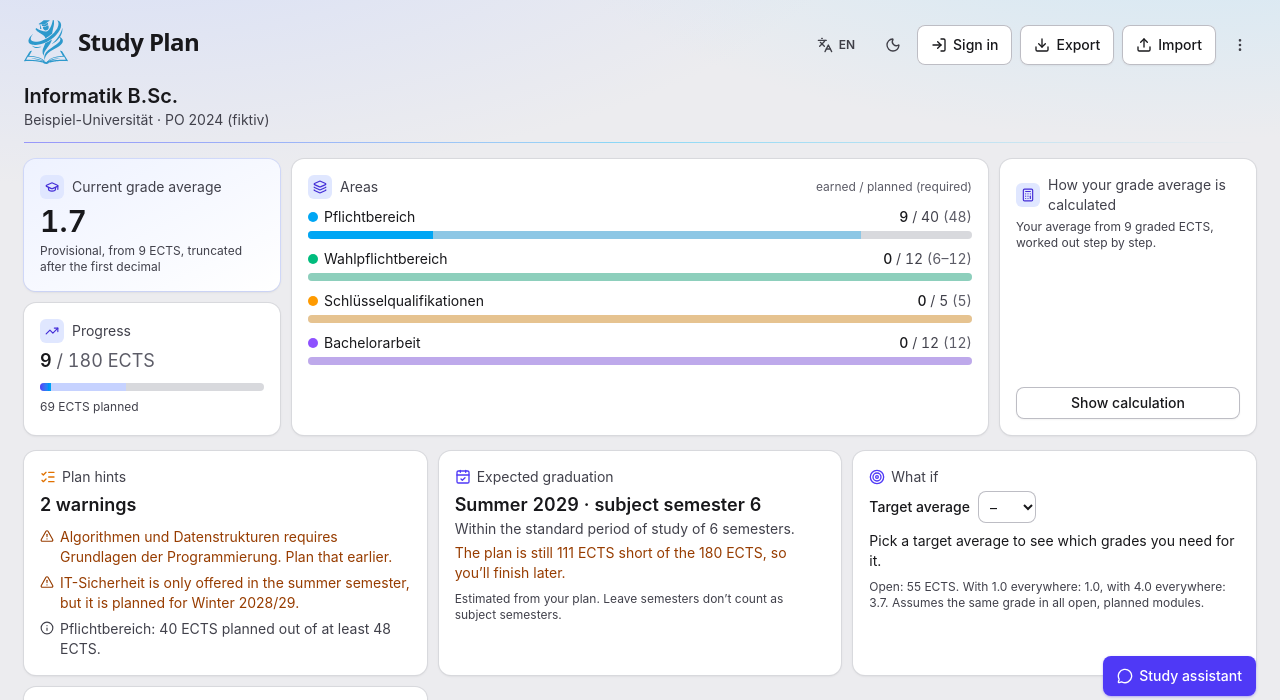
Test: resetting the plan to its default › is labelled in English
Click the button named "More actions". click: (1240, 45)
box: [1224,29,1256,61]
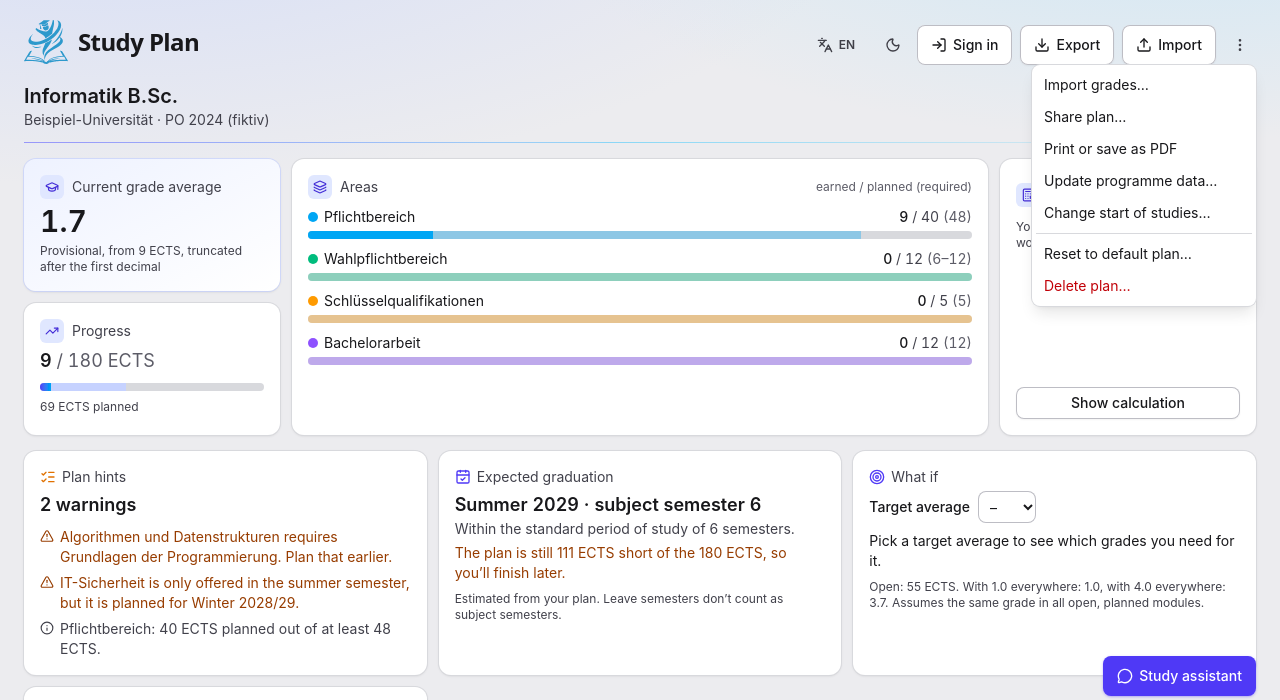
Result: the menu item "Reset to default plan…" is shown at [1044,245,1192,262]
